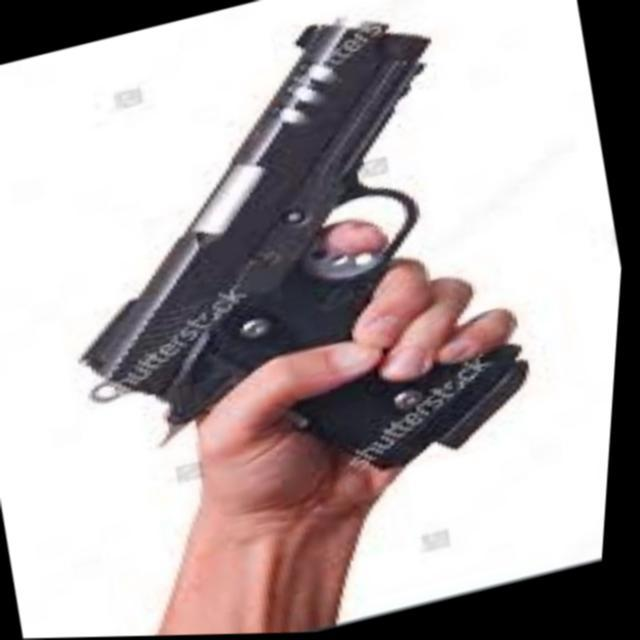weapon: (7, 0, 568, 541)
